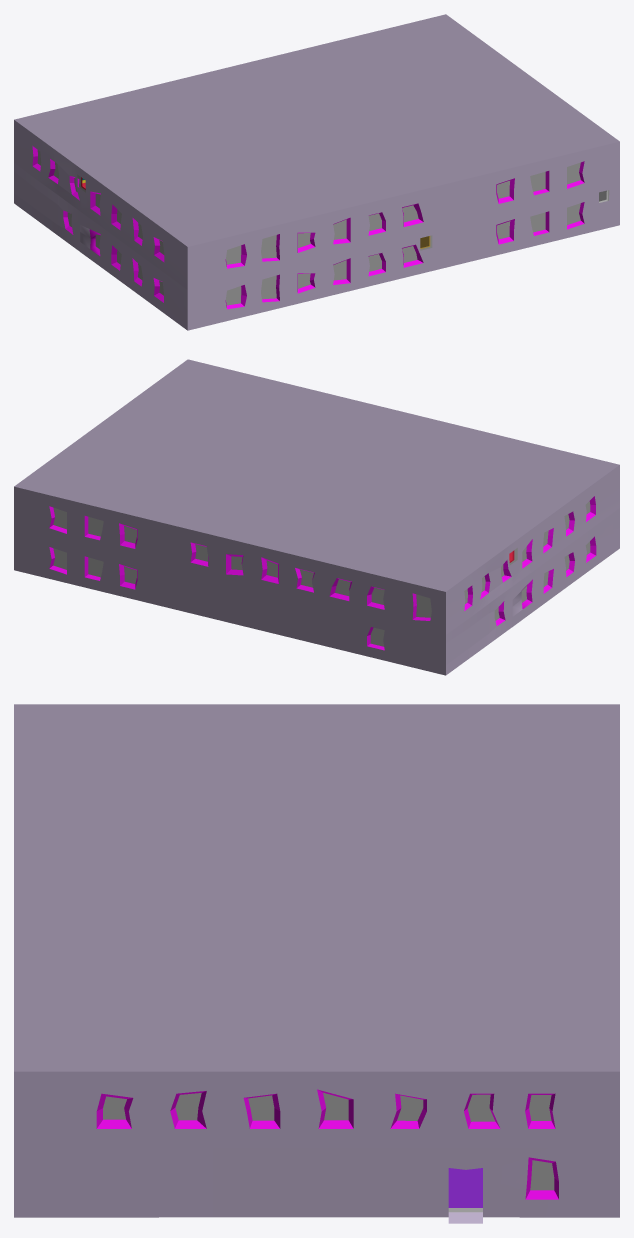
Rendered from SM_SchoolBuilding_4.0.fbx.
3 views of the same model, one above another, from view 1: azimuth 30°, elevation 25°; view 2: azimuth 150°, elevation 25°; view 3: azimuth 270°, elevation 25° (orthographic). The views are drawn at different scales.
Visible parts, largest first — view 1: SM_SchoolBuilding_4, SM_SchoolWIndowPlane; view 2: SM_SchoolBuilding_4, SM_SchoolWIndowPlane; view 3: SM_SchoolBuilding_4, SM_SchoolWIndowPlane.
Part boxes in pixels (bbox=[...]): SM_SchoolBuilding_4: bbox=[14, 14, 619, 330]; SM_SchoolWIndowPlane: bbox=[37, 150, 609, 305]; SM_SchoolBuilding_4: bbox=[14, 359, 619, 675]; SM_SchoolWIndowPlane: bbox=[53, 501, 590, 646]; SM_SchoolBuilding_4: bbox=[14, 704, 619, 1223]; SM_SchoolWIndowPlane: bbox=[103, 1092, 554, 1190].
Bounding box in the file's own units: 5663 × 1042 × 3880.
